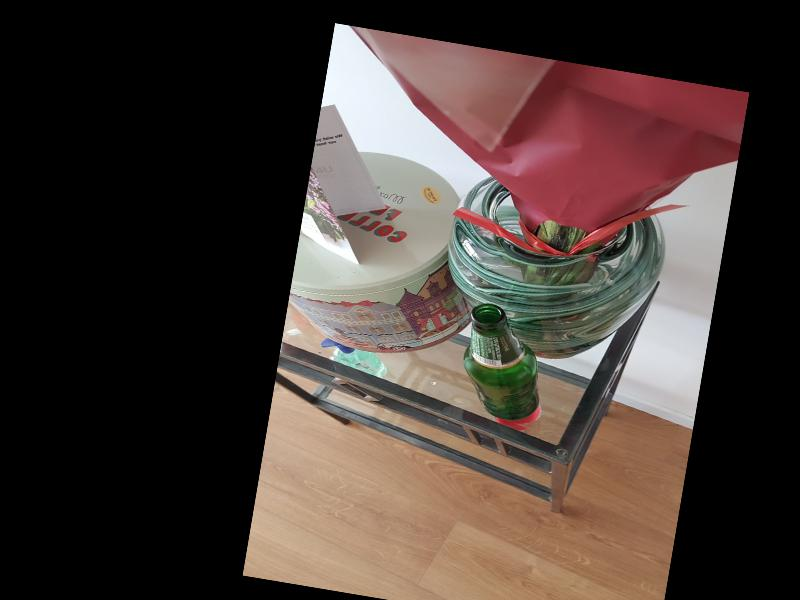Beer: (454, 301, 554, 424)
